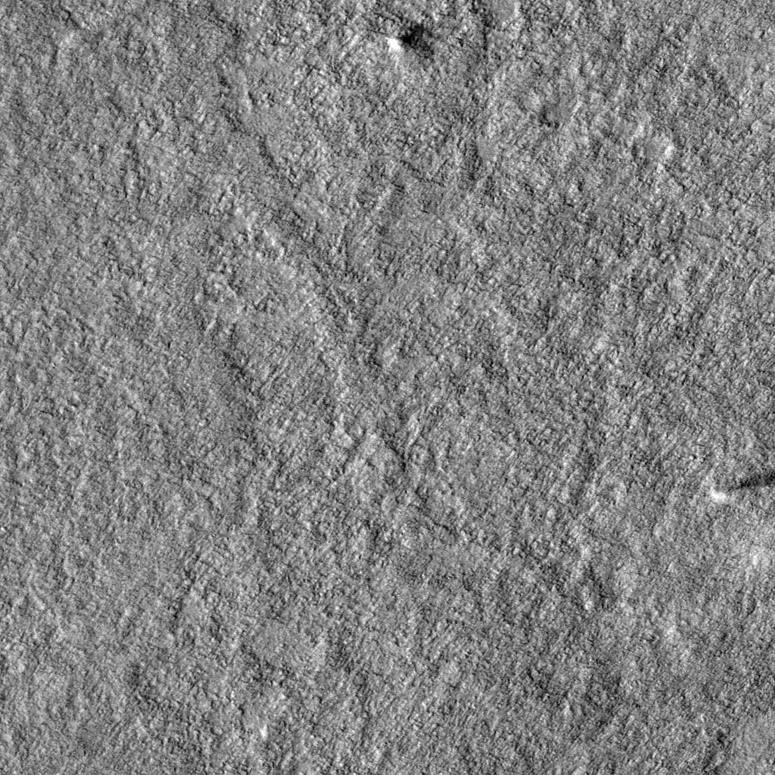dust_devil: (706, 467, 775, 506), (384, 23, 425, 57)
